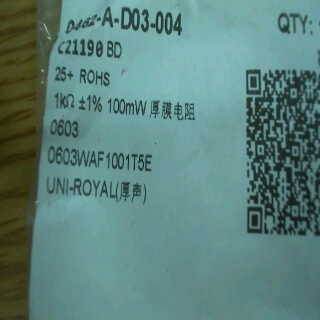1kR: (50, 88, 80, 112)
